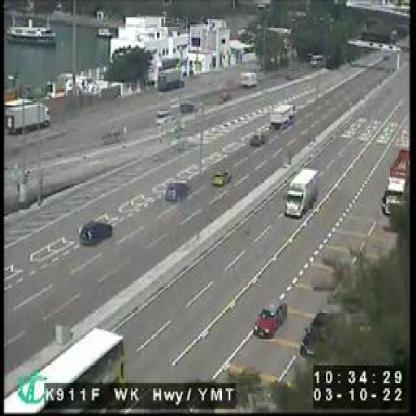Bus: (0, 324, 124, 414)
Car: (251, 301, 281, 332), (80, 222, 110, 244), (165, 182, 186, 201), (212, 166, 229, 184)
Truck: (381, 149, 407, 215), (284, 168, 314, 215)
